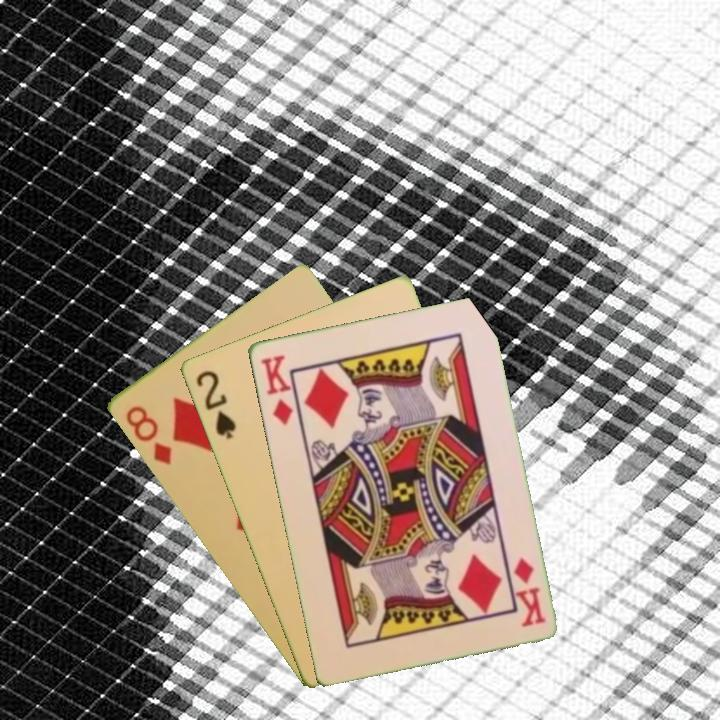2s: (191, 366, 239, 442)
8d: (121, 402, 174, 468)
Kd: (256, 351, 296, 428), (509, 553, 548, 630)
